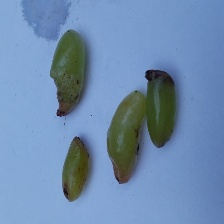grapes: (35, 43, 201, 219)
